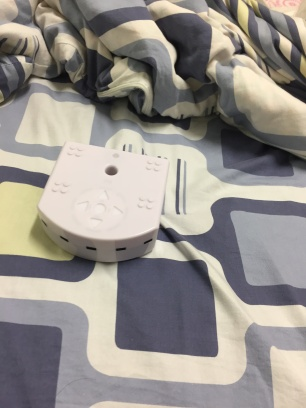thymio: (32, 137, 172, 273)
